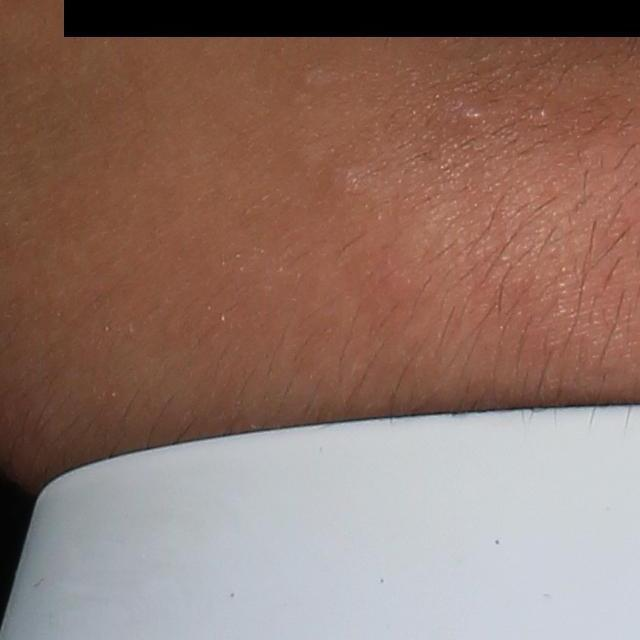comedo: (457, 105, 488, 125)
